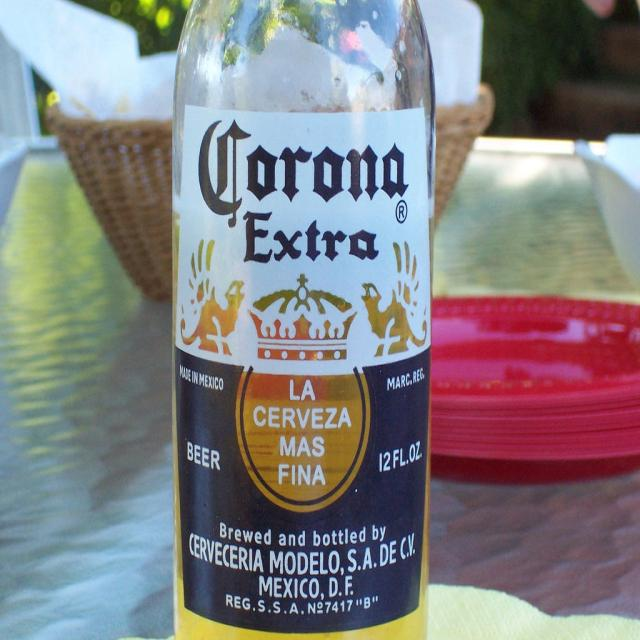corona: (175, 106, 432, 635)
